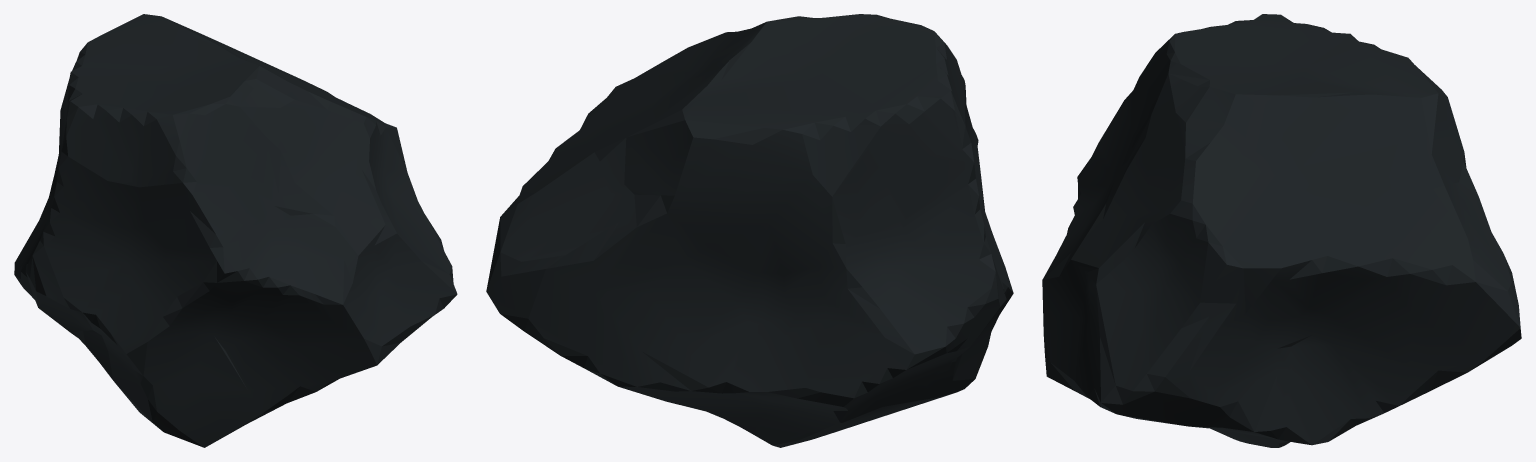
Rendered from Asteroid_l_06.FBX.
The picture shows the model from 3 angles, left to right: view 1: azimuth 30°, elevation 25°; view 2: azimuth 150°, elevation 25°; view 3: azimuth 270°, elevation 25°; orthographic projection. The views are drawn at different scales.
Parts seen in each view (by area): view 1: Asteroid_l_06; view 2: Asteroid_l_06; view 3: Asteroid_l_06.
Part boxes in pixels (<box>): Asteroid_l_06: <box>14,14,457,447</box>; Asteroid_l_06: <box>486,14,1013,447</box>; Asteroid_l_06: <box>1042,14,1521,447</box>.
Bounding box in the file's own units: 1121 × 1012 × 1176.
